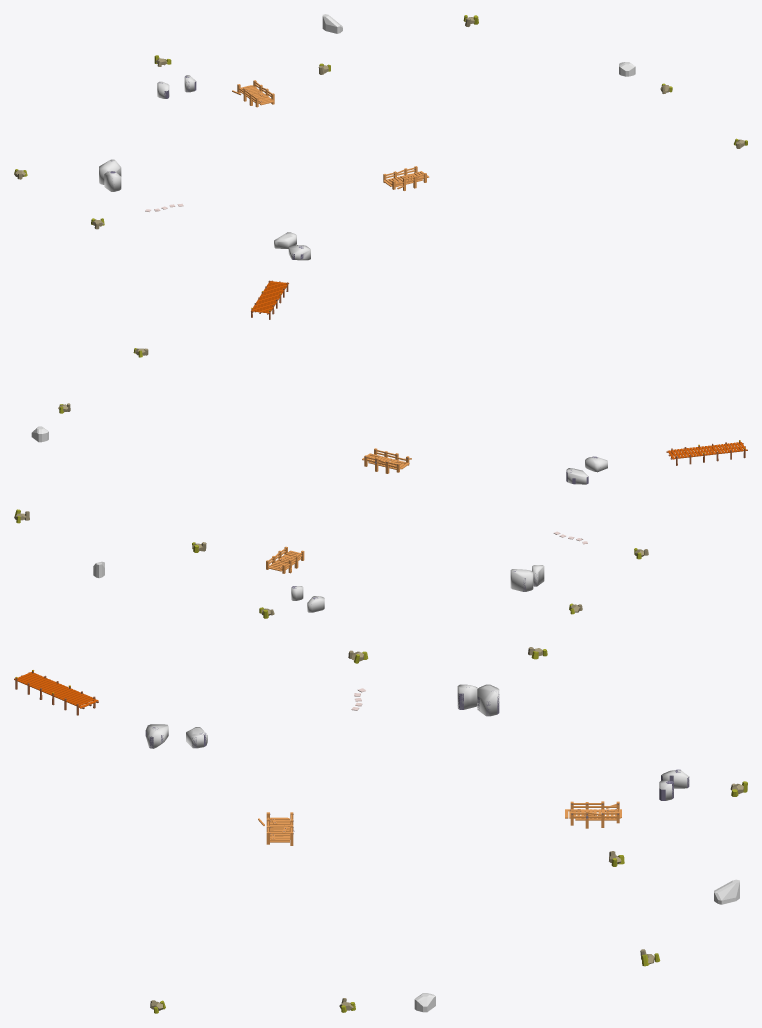
Rendered from scenery.glb.
The picture shows the model from 3 angles, top to bottom: view 1: azimuth 30°, elevation 25°; view 2: azimuth 150°, elevation 25°; view 3: azimuth 270°, elevation 25°; orthographic projection. The views are drawn at different scales.
Visible parts, largest first — view 1: coastalHeadlandRocksPhysicalFixed, swPierPhysicalFixed, bridgePhysicalFixed.001, bridgePhysicalFixed; view 2: swPierPhysicalFixed, coastalHeadlandRocksPhysicalFixed, bridgePhysicalFixed.001, bridgePhysicalFixed, hull.015; view 3: swPierPhysicalFixed, coastalHeadlandRocksPhysicalFixed, bridgePhysicalFixed, bridgePhysicalFixed.001, hull.015.
Part boxes in pixels (left/top/right/bottom): coastalHeadlandRocksPhysicalFixed: left=14, top=15, right=747, bottom=229; swPierPhysicalFixed: left=251, top=280, right=288, bottom=319; bridgePhysicalFixed.001: left=383, top=166, right=429, bottom=190; bridgePhysicalFixed: left=232, top=80, right=274, bottom=107; swPierPhysicalFixed: left=666, top=440, right=747, bottom=465; coastalHeadlandRocksPhysicalFixed: left=14, top=348, right=648, bottom=618; bridgePhysicalFixed.001: left=362, top=448, right=411, bottom=473; bridgePhysicalFixed: left=266, top=546, right=304, bottom=573; hull.015: left=510, top=569, right=533, bottom=591; swPierPhysicalFixed: left=14, top=670, right=98, bottom=715; coastalHeadlandRocksPhysicalFixed: left=150, top=647, right=747, bottom=1013; bridgePhysicalFixed: left=565, top=801, right=621, bottom=828; bridgePhysicalFixed.001: left=258, top=812, right=294, bottom=845; hull.015: left=477, top=684, right=499, bottom=716.
Size of the model in its own units: 153 by 4.51 by 131.
1 material, 1 textured.
